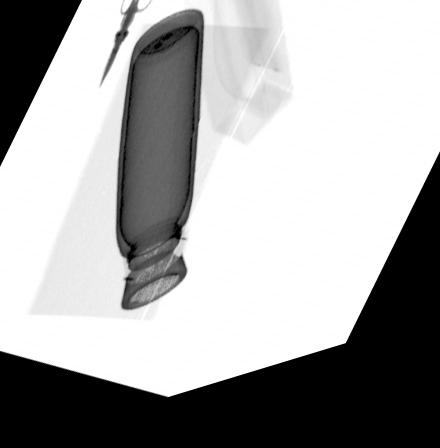Scissors: (99, 0, 156, 93)
